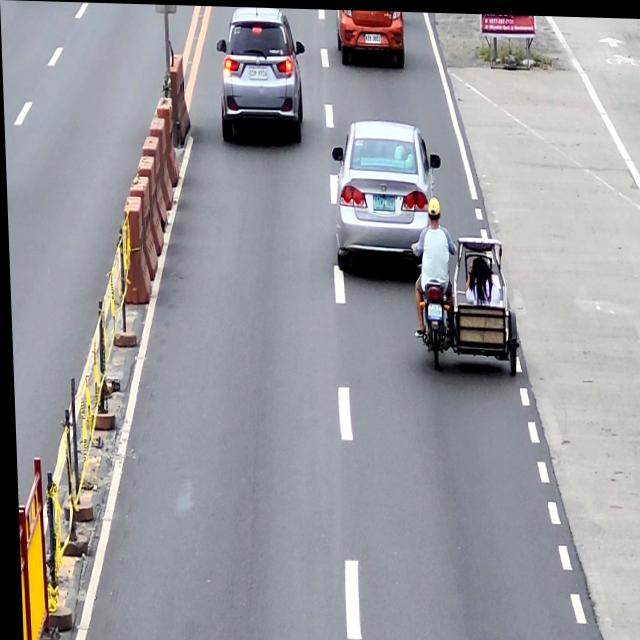Car: (329, 119, 444, 276), (214, 5, 308, 145), (334, 8, 405, 67)
License-Plate: (371, 193, 394, 210), (248, 65, 269, 79), (424, 301, 440, 319), (364, 30, 382, 41)
Tricycle: (407, 234, 521, 375)
